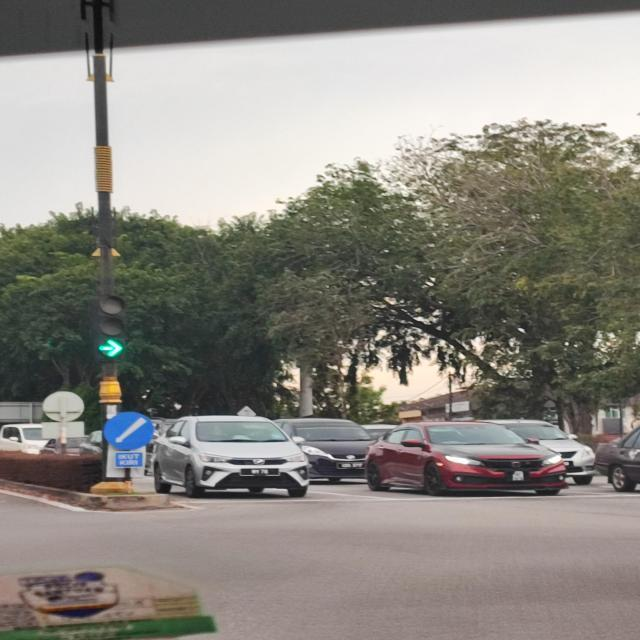green_light: (94, 294, 128, 359)
